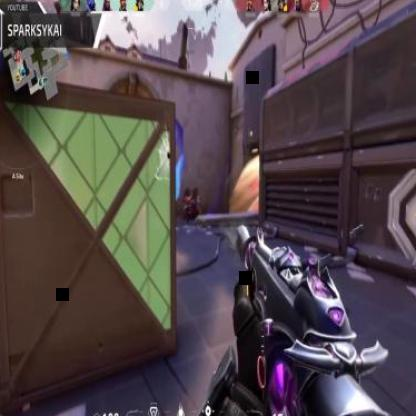enemy: (192, 190, 202, 228), (184, 190, 192, 226)
enemy_head: (194, 190, 199, 198), (186, 190, 190, 198)
